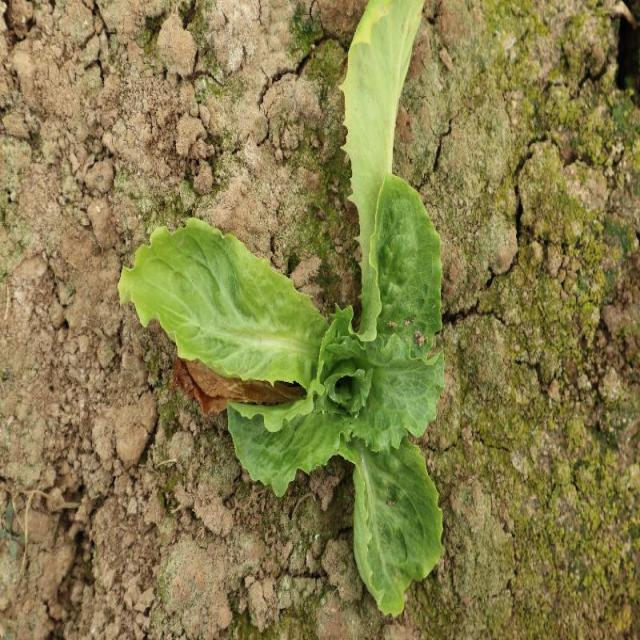crop: (116, 0, 446, 618)
